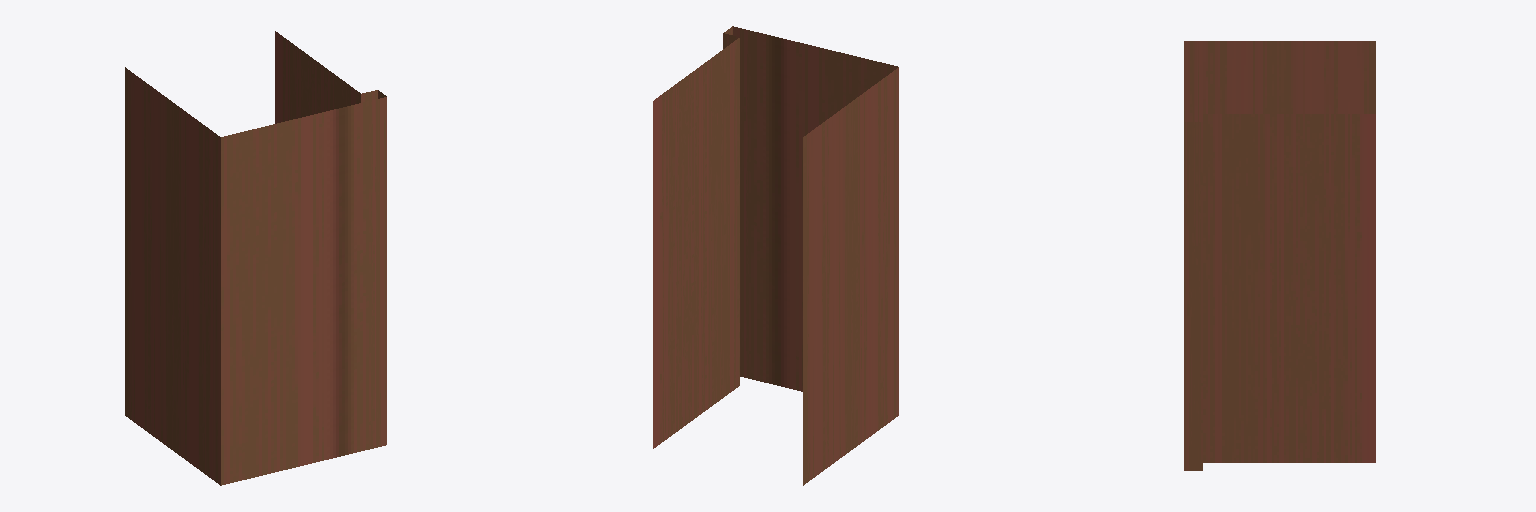
3 views of the same model, side by side, from view 1: azimuth 30°, elevation 25°; view 2: azimuth 150°, elevation 25°; view 3: azimuth 270°, elevation 25° (orthographic).
Parts seen in each view (by area): view 1: Plane; view 2: Plane; view 3: Plane.
Part boxes in pixels (x1,y1,x2,y2): Plane: (125, 31, 386, 485); Plane: (653, 26, 898, 485); Plane: (1184, 41, 1375, 470).
Size of the model in its own units: 1 by 2 by 1.
Materials: 1 (1 with a texture image).